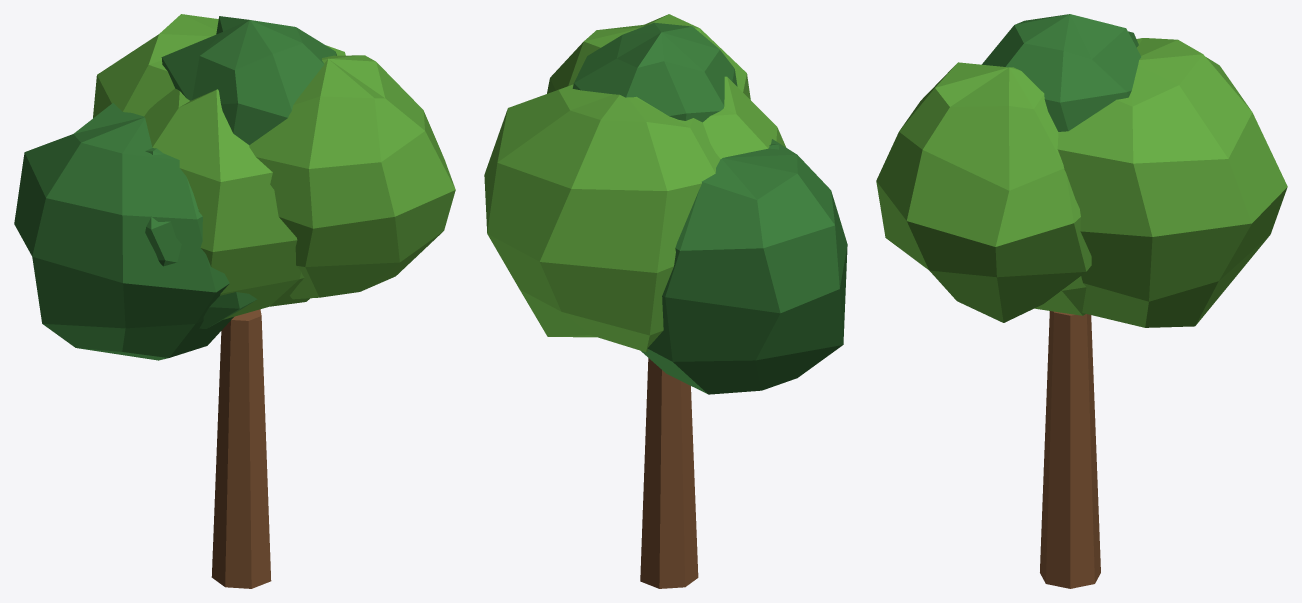
The model's file is tree_round.obj.
The picture shows the model from 3 angles, left to right: view 1: azimuth 30°, elevation 25°; view 2: azimuth 150°, elevation 25°; view 3: azimuth 270°, elevation 25°; orthographic projection. The views are drawn at different scales.
Visible parts, largest first — view 1: crown, trunk; view 2: crown, trunk; view 3: crown, trunk.
Part boxes in pixels (<box>): crown: <box>14,14,455,360</box>; trunk: <box>211,309,271,588</box>; crown: <box>484,14,847,394</box>; trunk: <box>640,358,698,588</box>; crown: <box>876,14,1287,327</box>; trunk: <box>1040,311,1100,588</box>.
Bounding box in the file's own units: 2.42 × 3.58 × 2.36.
